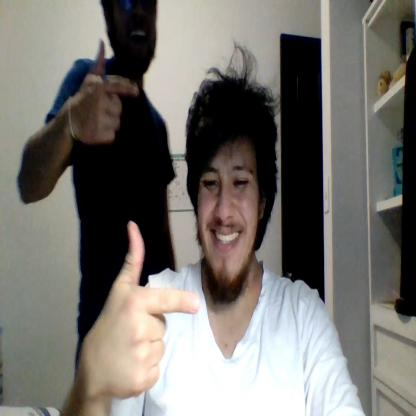G: (90, 220, 198, 399), (75, 40, 139, 141)
